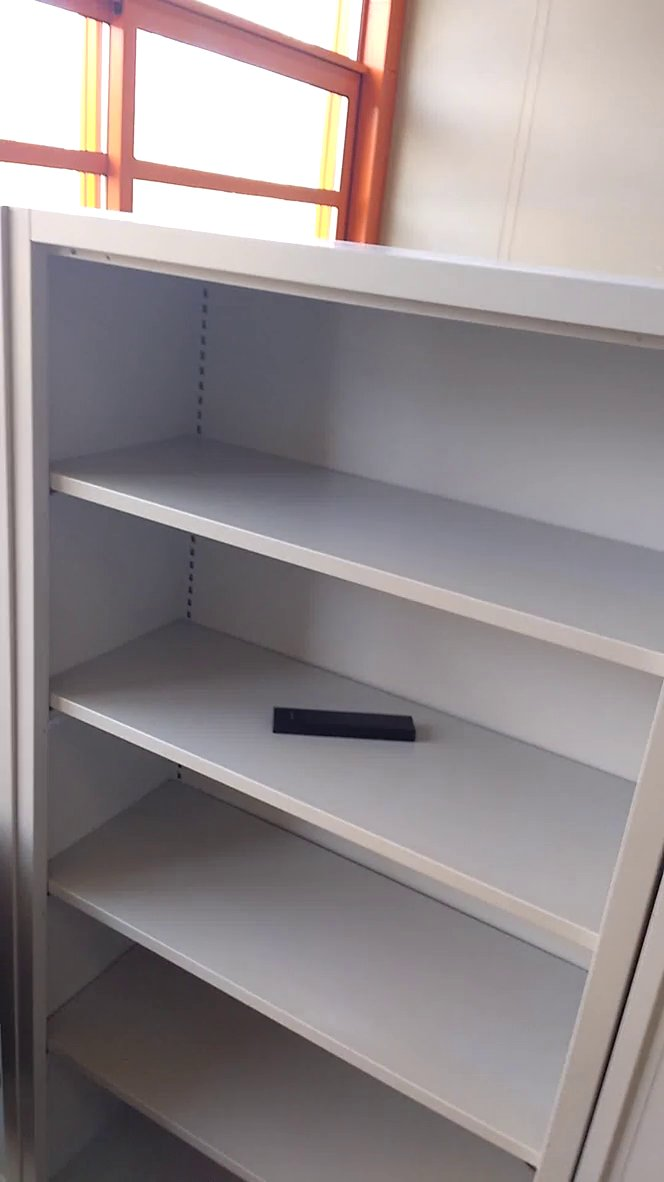remote: (263, 694, 437, 758)
